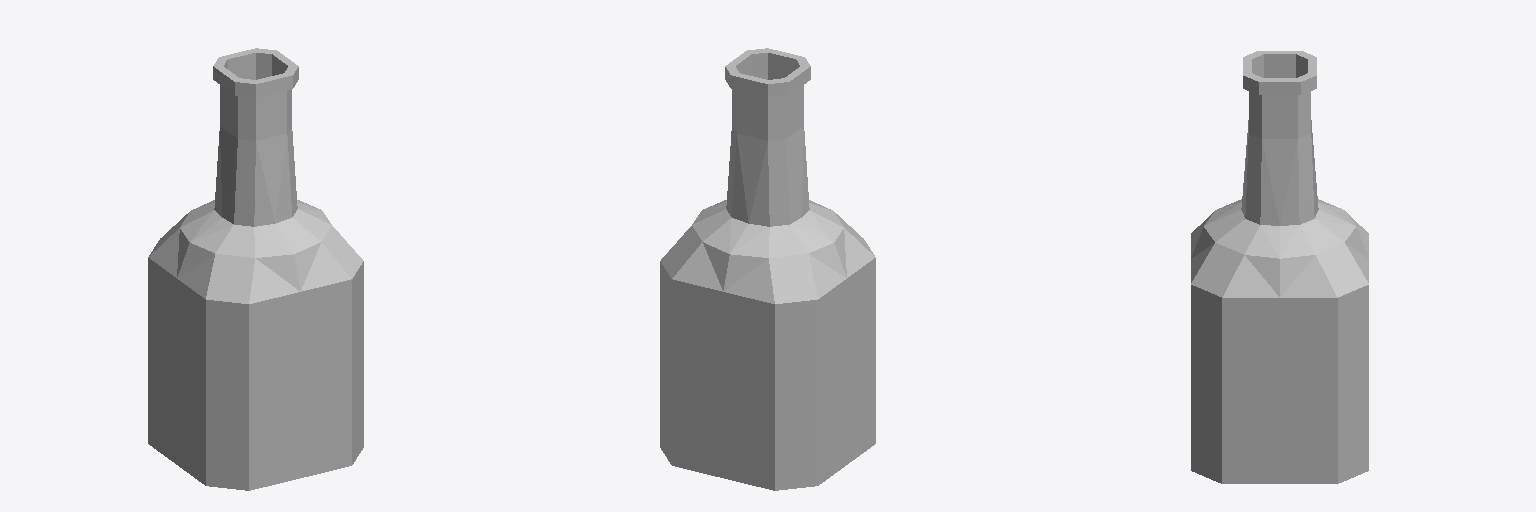
File: ThrowBottle.obj
3 renders of one model, left to right at view 1: azimuth 30°, elevation 25°; view 2: azimuth 150°, elevation 25°; view 3: azimuth 270°, elevation 25°, orthographic.
Bounding box in the file's own units: 0.5039 × 1.16 × 0.493.